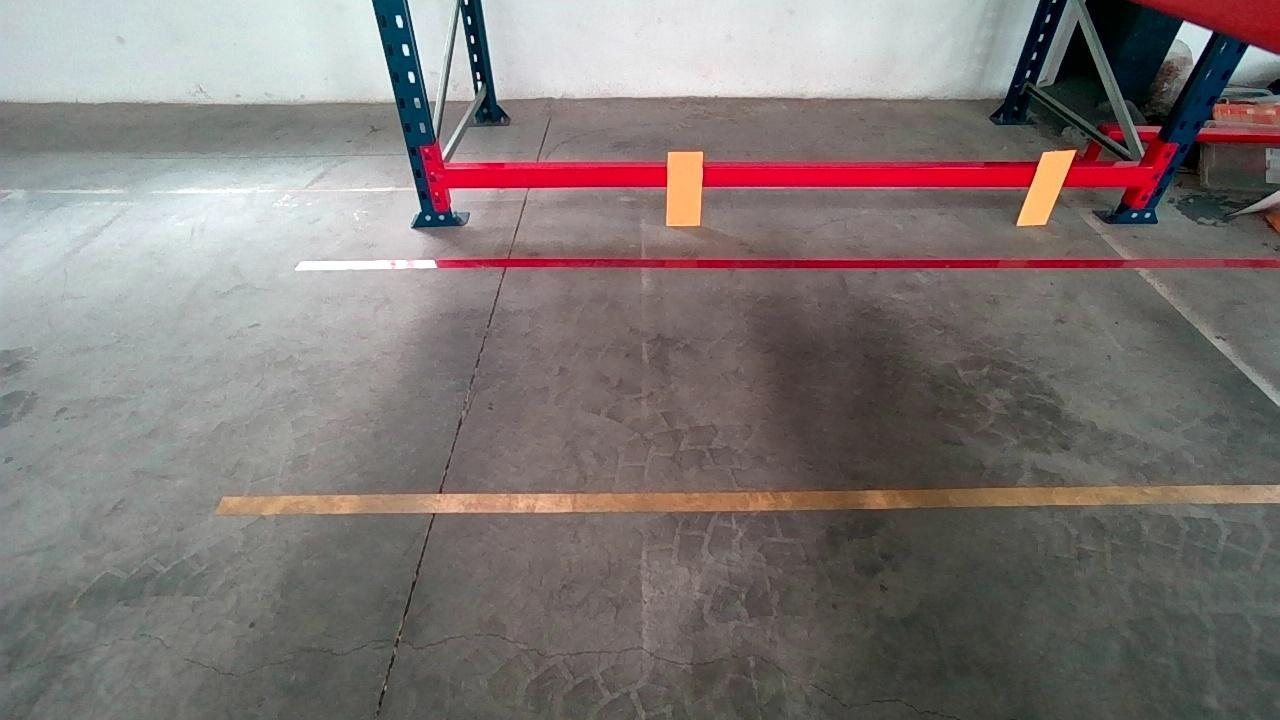h_rack: (436, 158, 1135, 192)
orange_strip: (1017, 150, 1078, 224), (667, 150, 703, 224)
red_line: (304, 252, 1268, 277)
yellow_line: (242, 470, 1266, 532)
